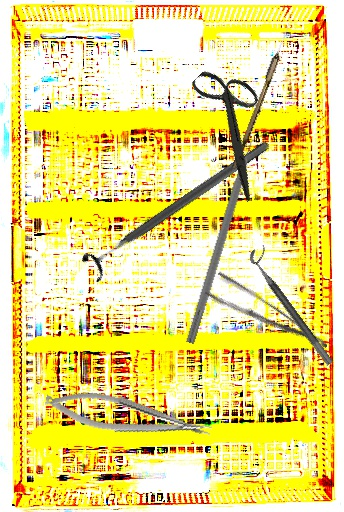Chopper: (185, 128, 272, 348)
Dressing Forceps: (203, 269, 330, 368)
Fixation Ring: (78, 129, 278, 285), (246, 243, 343, 367)
Iris Scissors: (158, 55, 307, 203)
Needle Holder: (42, 380, 214, 454)
Surgical Spoon: (231, 14, 296, 170)
